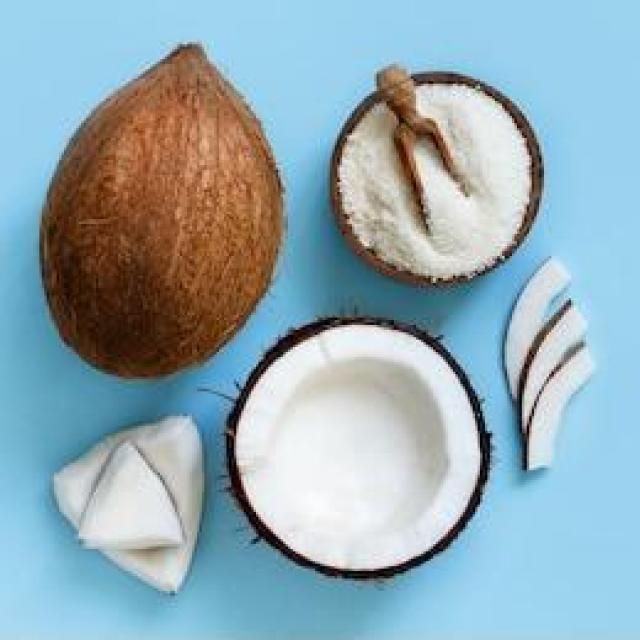coconut: (37, 41, 286, 378), (231, 310, 493, 584)
